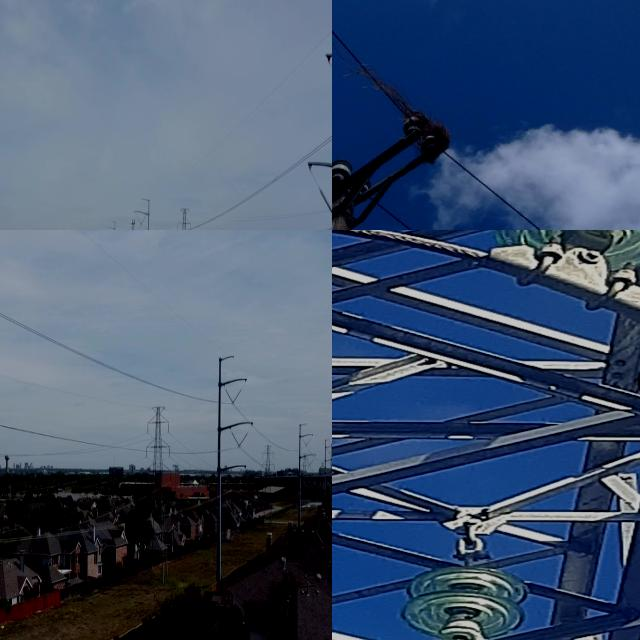杆塔: (332, 230, 640, 640), (140, 398, 176, 582), (168, 202, 195, 230)
植被遮挡: (345, 67, 453, 163)
正常绝缘子: (332, 550, 532, 640), (492, 230, 640, 281), (229, 383, 247, 411), (235, 427, 252, 453), (319, 188, 332, 216), (223, 382, 236, 407), (228, 428, 242, 451)
绝缘子破损: (436, 618, 485, 640)
